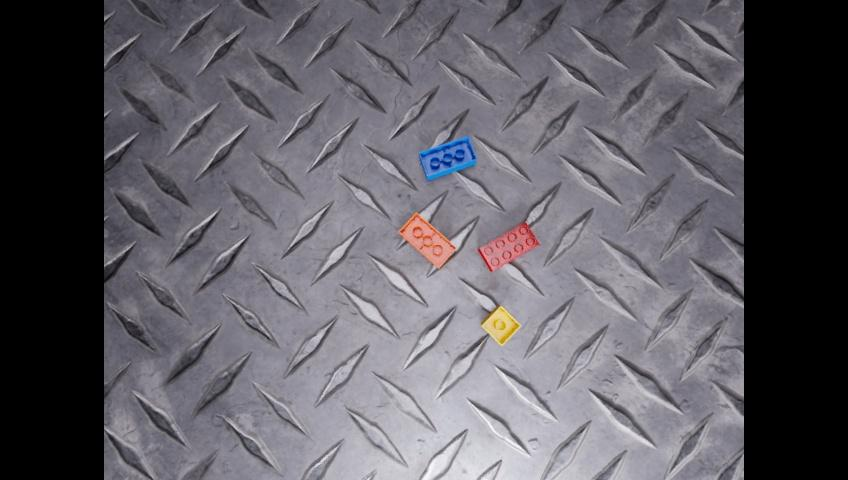2x2_yellow: (480, 305, 519, 345)
4x2_blue: (419, 135, 476, 180)
4x2_orange: (399, 212, 455, 267)
4x2_red: (477, 221, 538, 271)
